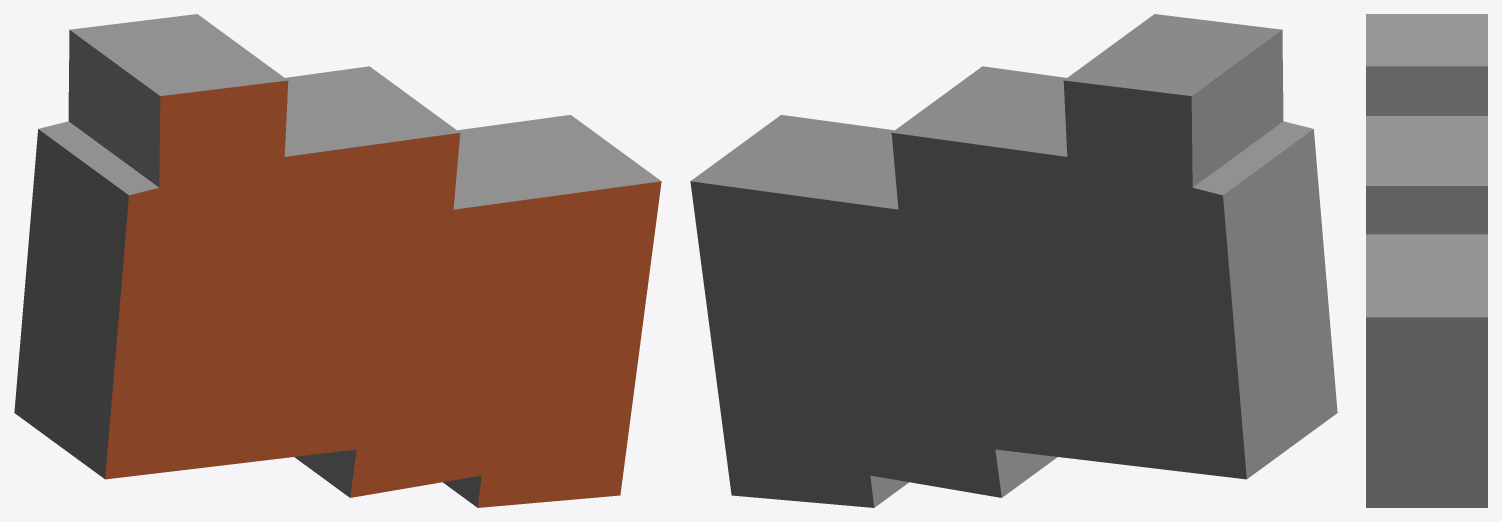
File: construction_0372_assumed_A_Casa_h6m.obj
The picture shows the model from 3 angles, left to right: view 1: azimuth 30°, elevation 25°; view 2: azimuth 150°, elevation 25°; view 3: azimuth 270°, elevation 25°; orthographic projection. The views are drawn at different scales.
Parts seen in each view (by area): view 1: construction_0372_assumed_A_Casa; view 2: construction_0372_assumed_A_Casa; view 3: construction_0372_assumed_A_Casa.
Part boxes in pixels (x1,y1,x2,y2): construction_0372_assumed_A_Casa: (14, 14, 661, 507); construction_0372_assumed_A_Casa: (690, 14, 1337, 507); construction_0372_assumed_A_Casa: (1366, 14, 1487, 507).
Bounding box in the file's own units: 21.22 × 18.65 × 6.
